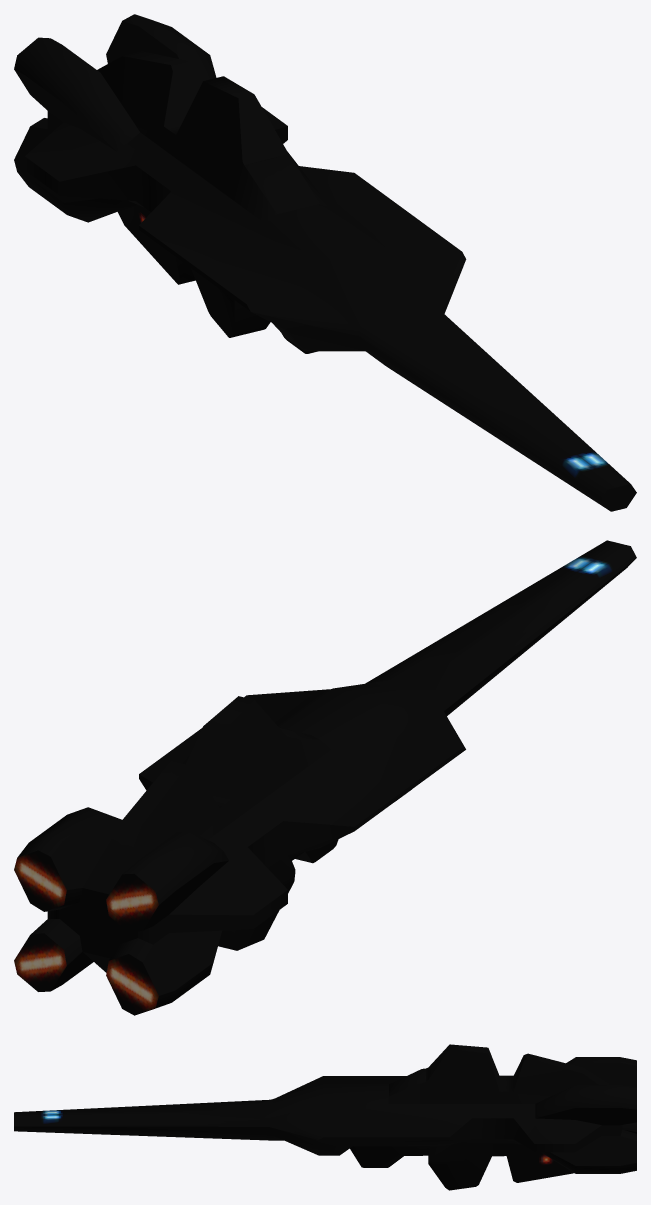
Rendered from vgr_sf_scou_01_t1.glb.
3 renders of one model, top to bottom at view 1: azimuth 30°, elevation 25°; view 2: azimuth 150°, elevation 25°; view 3: azimuth 270°, elevation 25°, orthographic. The views are drawn at different scales.
Visible parts, largest first — view 1: vgr_scout_01_LOD0; view 2: vgr_scout_01_LOD0; view 3: vgr_scout_01_LOD0.
Boxes of the visible parts, bbox=[...] form: vgr_scout_01_LOD0: bbox=[14, 14, 636, 511]; vgr_scout_01_LOD0: bbox=[14, 540, 636, 1015]; vgr_scout_01_LOD0: bbox=[14, 1044, 636, 1190].
Size of what is drawn, in the model's own units: 0.0961 by 0.0955 by 0.3881.
1 material, 1 textured.
